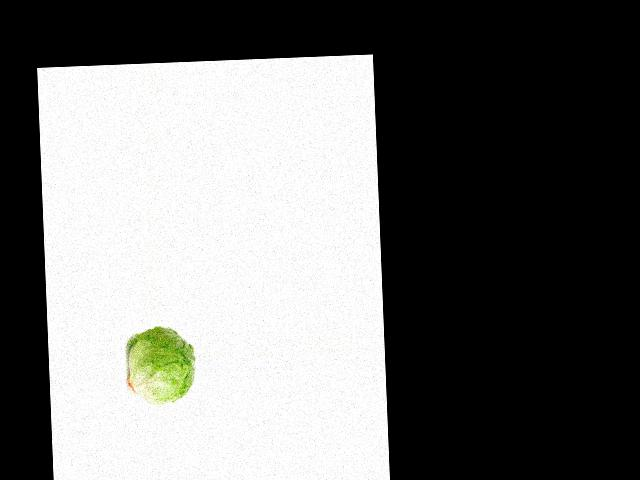lettuce: (127, 325, 196, 401)
